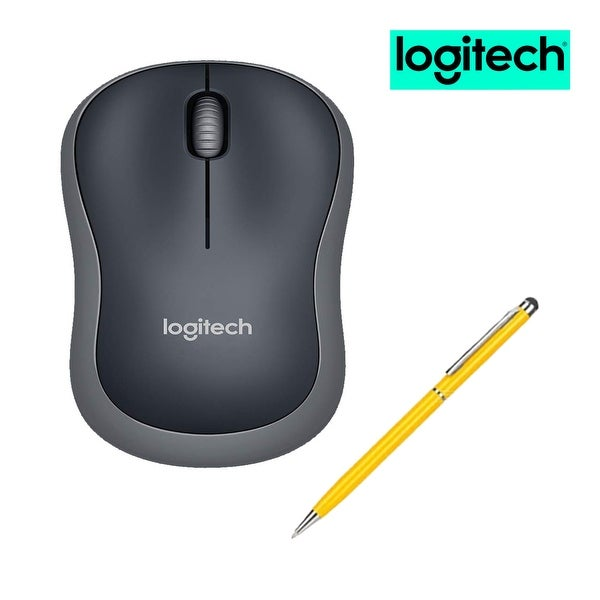logitech-mouse-m185: (68, 59, 370, 467)
